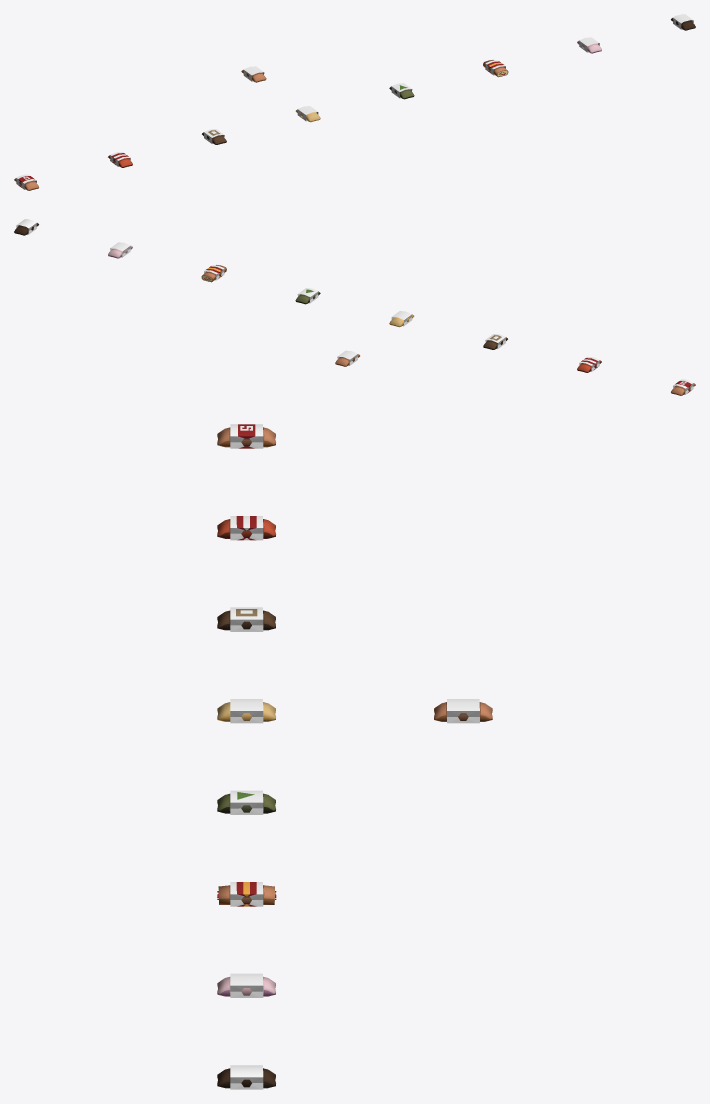
File: DonkPockets.fbx
The picture shows the model from 3 angles, top to bottom: view 1: azimuth 30°, elevation 25°; view 2: azimuth 150°, elevation 25°; view 3: azimuth 270°, elevation 25°; orthographic projection. The views are drawn at different scales.
Visible parts, largest first — view 1: PizzaDonkPocket; view 2: PizzaDonkPocket; view 3: PizzaDonkPocket, SyndicateDonkPocket, TeriyakiDonkPocket, GondolaDonkPocket, BerryDonkPocket, DankPocket, BananaDonkPocket, DonkPocket, SpicyDonkPocket.
Part boxes in pixels (x1,y1,x2,y2): PizzaDonkPocket: (483,60,508,77); PizzaDonkPocket: (201,265,226,282); PizzaDonkPocket: (217,882,276,906); SyndicateDonkPocket: (217,424,275,448); TeriyakiDonkPocket: (217,607,275,631); GondolaDonkPocket: (217,1065,275,1089); BerryDonkPocket: (217,973,275,997); DankPocket: (217,790,275,814); BananaDonkPocket: (217,699,275,723); DonkPocket: (434,699,492,723); SpicyDonkPocket: (217,516,275,540).
Bounding box in the file's own units: 7.13 × 0.0845 × 1.27.
